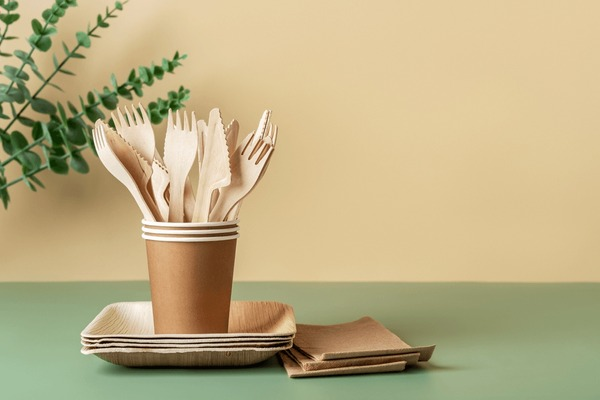Wooden Utensils: (94, 90, 269, 220)
